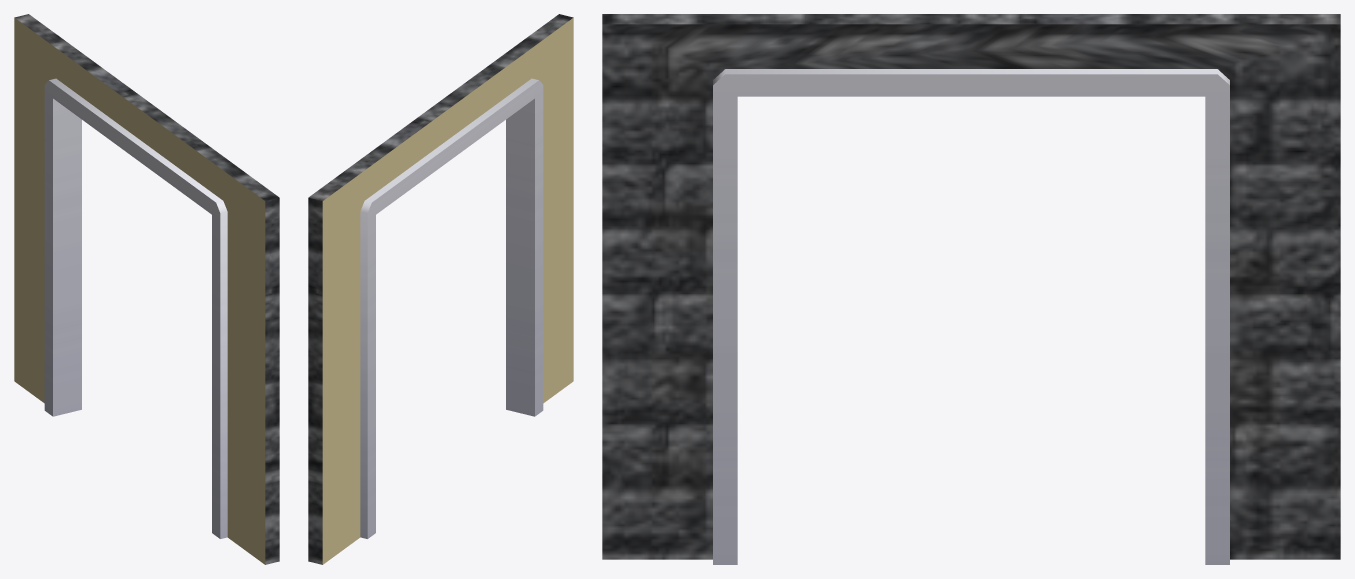
File: kit_Wall Doorway Wide.glb
3 renders of one model, left to right at view 1: azimuth 30°, elevation 25°; view 2: azimuth 150°, elevation 25°; view 3: azimuth 270°, elevation 25°, orthographic. The views are drawn at different scales.
Visible parts, largest first — view 1: wall-doorway-square; view 2: wall-doorway-square; view 3: wall-doorway-square.
Part boxes in pixels (box(x1,y1,x2,y2)): wall-doorway-square: box(14, 14, 279, 564); wall-doorway-square: box(308, 14, 573, 564); wall-doorway-square: box(602, 14, 1340, 564).
Size of the model in its own units: 0.2 by 2.4 by 3.
Materials: 3 (2 with a texture image).
